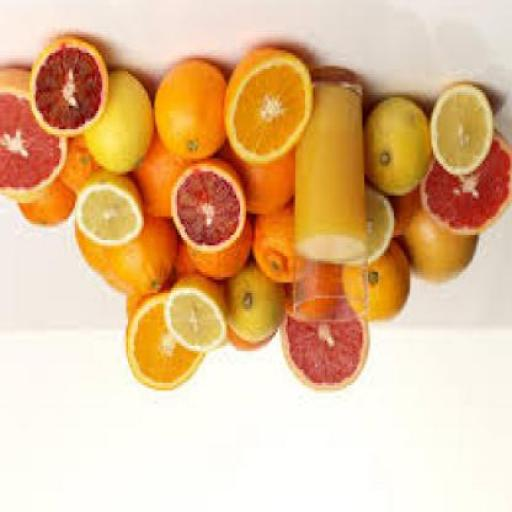biodegradable: (294, 92, 362, 267), (223, 51, 311, 166), (419, 134, 510, 240), (124, 290, 205, 393), (0, 72, 65, 200), (28, 39, 106, 143), (280, 301, 366, 393), (150, 63, 224, 167), (79, 72, 151, 178), (169, 164, 242, 254), (362, 100, 429, 198), (103, 219, 175, 298), (430, 90, 492, 177), (222, 261, 284, 348), (218, 145, 290, 219), (337, 250, 408, 324), (73, 174, 144, 248), (402, 214, 477, 282), (162, 278, 226, 356), (128, 135, 187, 218), (181, 222, 252, 286), (250, 201, 301, 288), (346, 190, 392, 267), (282, 269, 338, 322), (15, 185, 71, 230), (72, 227, 114, 285), (59, 137, 99, 195), (59, 140, 99, 195), (386, 196, 425, 242), (224, 324, 274, 356), (169, 237, 201, 282)
glass: (290, 72, 364, 328)
